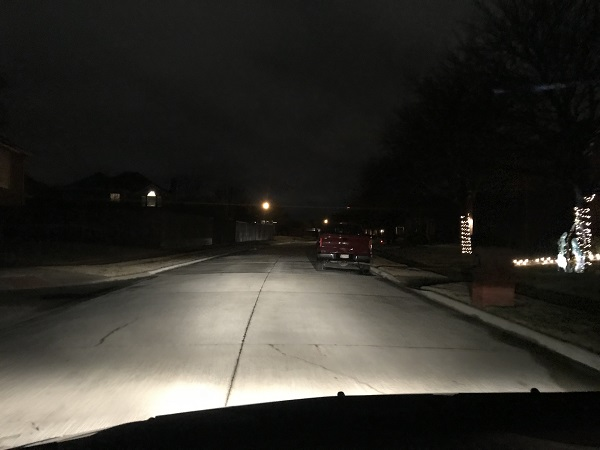truck: (313, 222, 376, 273)
